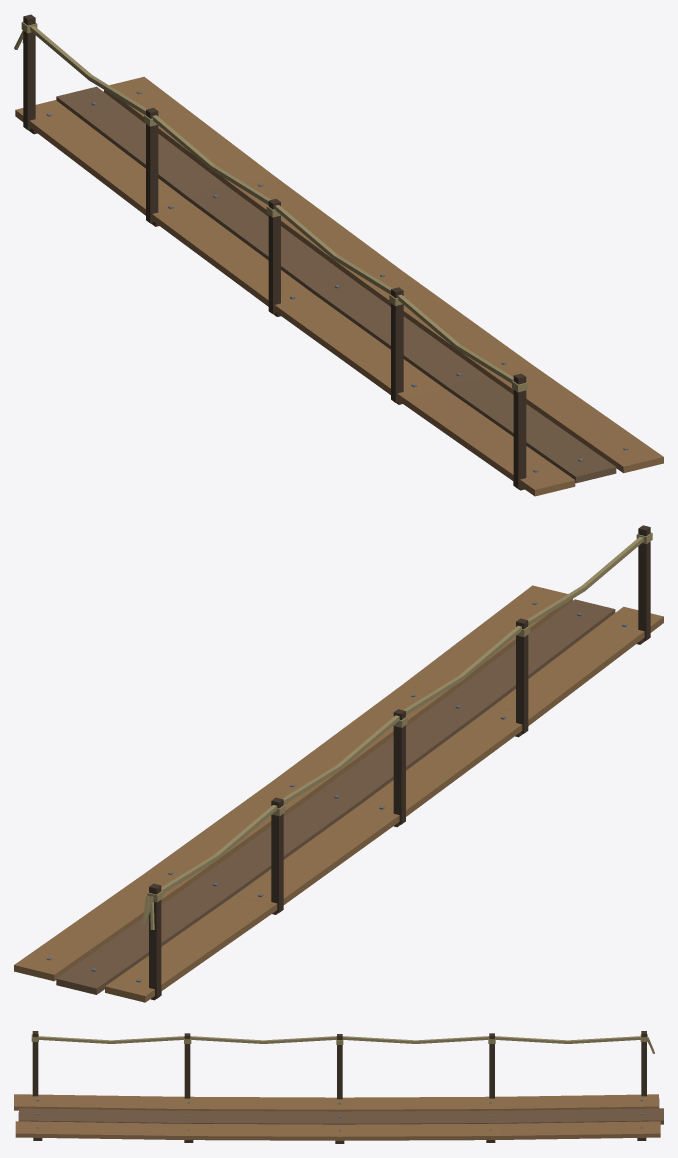
File: roof_plank_8.glb
The picture shows the model from 3 angles, top to bottom: view 1: azimuth 30°, elevation 25°; view 2: azimuth 150°, elevation 25°; view 3: azimuth 270°, elevation 25°; orthographic projection. The views are drawn at different scales.
Visible parts, largest first — view 1: roof_plank_8; view 2: roof_plank_8; view 3: roof_plank_8.
Part boxes in pixels (x1=…): roof_plank_8: x1=14, y1=14, x2=663, y2=496; roof_plank_8: x1=14, y1=525, x2=663, y2=1002; roof_plank_8: x1=14, y1=1031, x2=663, y2=1143.
Size of what is drawn, in the model's own units: 1.2 by 1 by 8.07.
2 materials, 2 textured.
